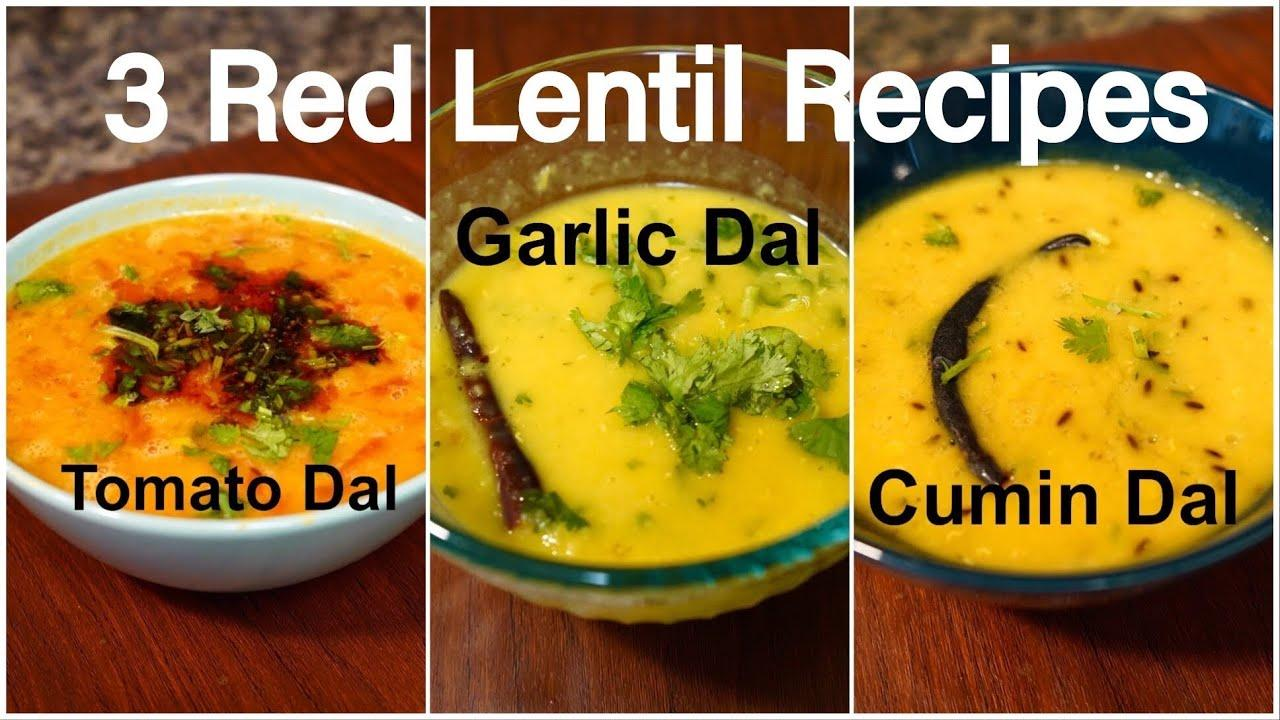daal: (454, 283, 847, 582), (15, 216, 440, 444)
